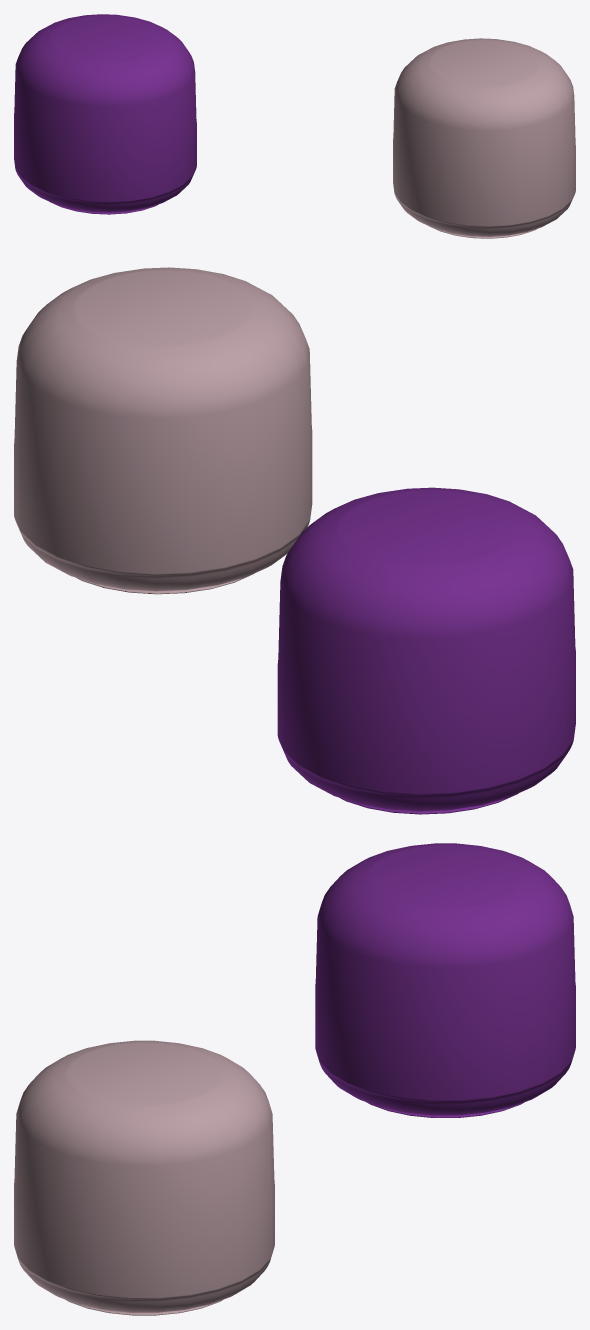
File: demo4.gltf
3 renders of one model, top to bottom at view 1: azimuth 30°, elevation 25°; view 2: azimuth 150°, elevation 25°; view 3: azimuth 270°, elevation 25°, orthographic. The views are drawn at different scales.
Visible parts, largest first — view 1: Plane, Plane.001; view 2: Plane, Plane.001; view 3: Plane, Plane.001.
Part boxes in pixels (x1,y1,x2,y2): Plane: (393, 38, 575, 238); Plane.001: (14, 14, 196, 214); Plane: (14, 267, 312, 594); Plane.001: (277, 487, 575, 814); Plane: (14, 1040, 274, 1315); Plane.001: (315, 843, 575, 1117).
Size of what is drawn, in the model's own units: 2.17 by 0.759 by 1.79.
